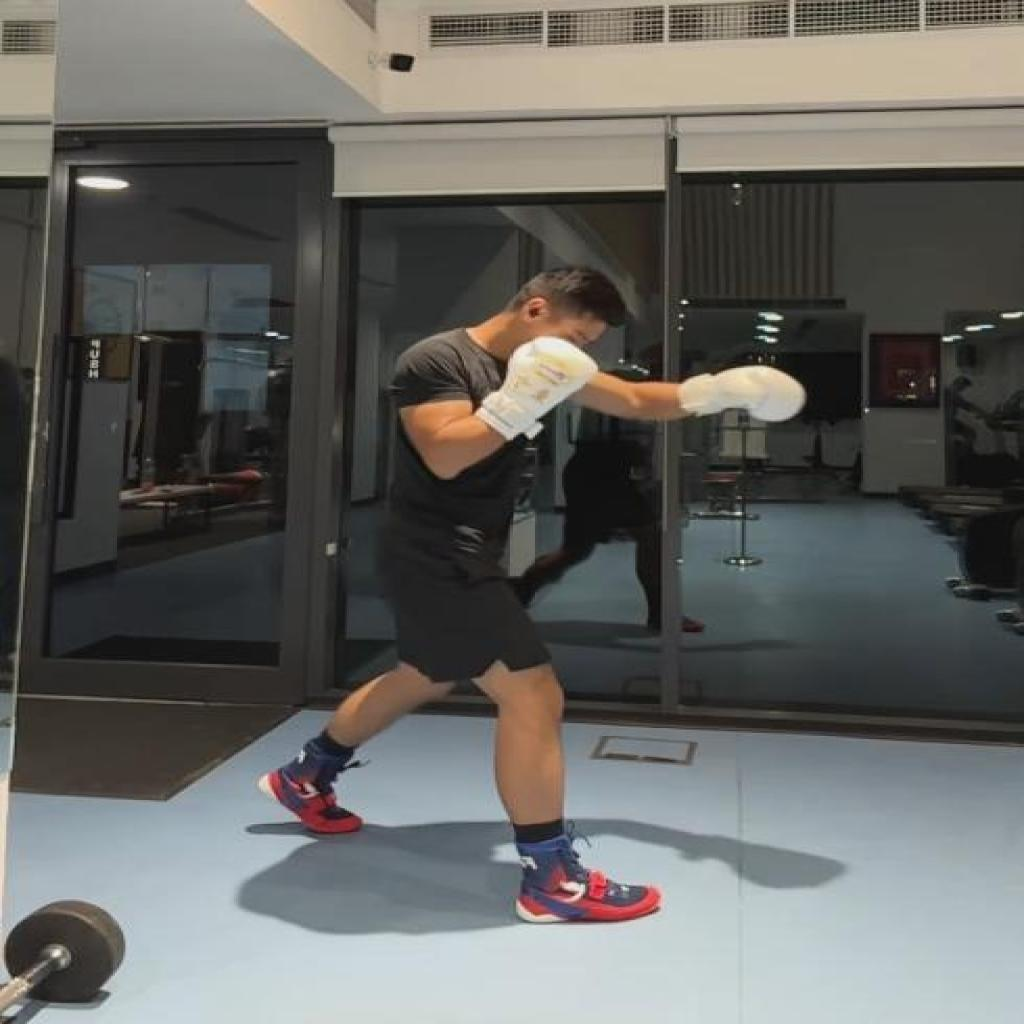cross: (255, 261, 805, 928)
